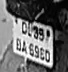0: (44, 51, 50, 63)
3: (33, 26, 39, 41)
6: (39, 47, 45, 62), (29, 43, 34, 58)
9: (38, 26, 44, 43), (34, 46, 39, 60)
A: (21, 41, 27, 56)
D: (16, 38, 22, 53)
P: (28, 23, 33, 38)
U: (20, 21, 28, 36)
